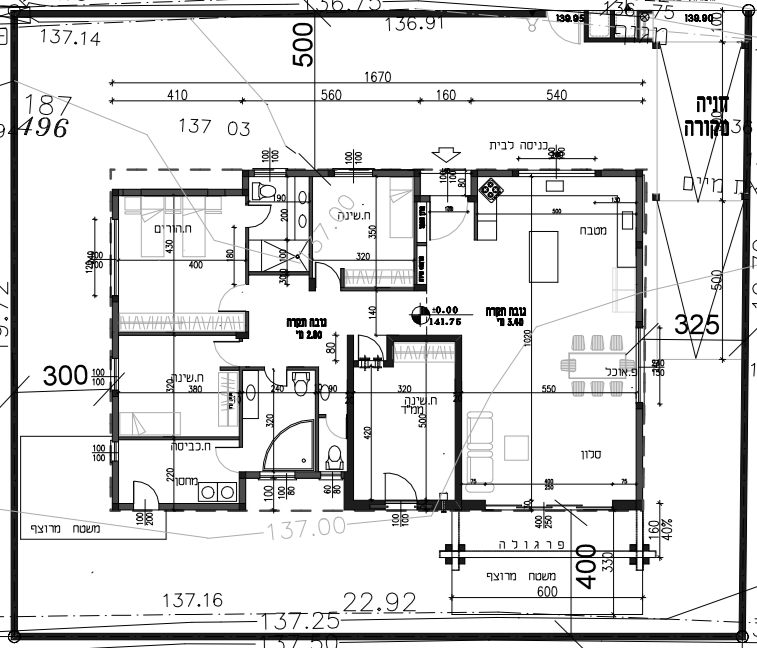door: (431, 200, 470, 255), (210, 439, 258, 476), (210, 334, 259, 366), (219, 284, 267, 316), (382, 466, 421, 503), (354, 326, 386, 371), (312, 256, 344, 294), (130, 479, 159, 518), (246, 202, 275, 229)
room: (480, 189, 633, 496), (121, 200, 238, 327), (359, 374, 448, 493), (319, 184, 411, 285), (125, 340, 228, 429), (321, 181, 408, 283), (247, 372, 312, 465), (129, 446, 234, 496), (252, 182, 307, 268)
wall: (452, 339, 466, 512), (343, 331, 356, 516), (112, 186, 245, 198), (636, 178, 646, 328), (633, 403, 645, 502), (120, 327, 249, 336), (387, 331, 459, 346), (160, 499, 241, 512), (340, 277, 422, 289), (119, 434, 247, 441), (313, 367, 321, 472), (237, 369, 247, 444), (107, 394, 123, 440), (218, 362, 265, 374), (288, 166, 335, 178), (477, 167, 523, 178), (112, 300, 120, 357), (349, 498, 384, 511), (285, 364, 325, 374), (111, 462, 119, 510), (380, 169, 421, 175), (415, 175, 427, 193), (606, 171, 641, 177)
window: (107, 217, 123, 293), (560, 494, 609, 515), (635, 338, 651, 401), (529, 167, 604, 178), (487, 499, 534, 515), (261, 467, 295, 486), (386, 496, 415, 515), (256, 162, 286, 180), (105, 439, 124, 464), (109, 359, 121, 387), (337, 170, 379, 177)
